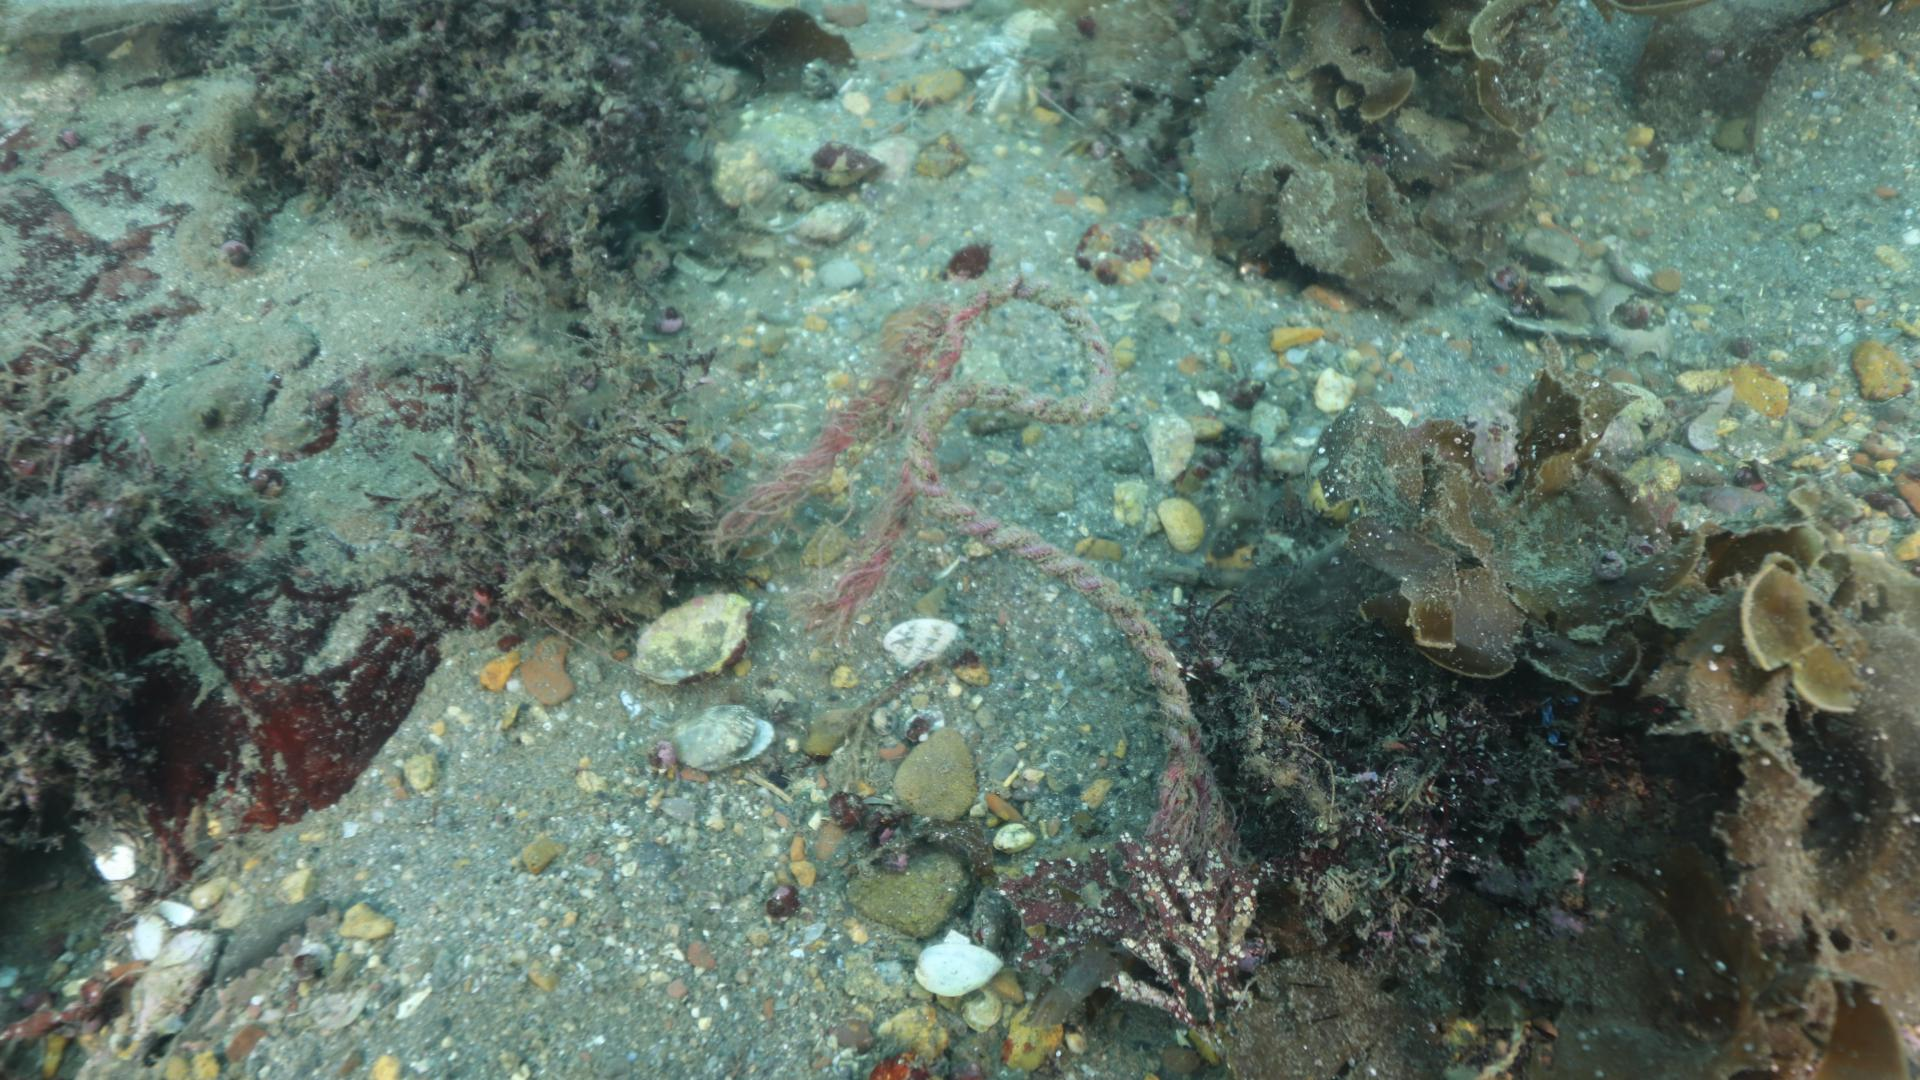rope: (899, 273, 1204, 760)
